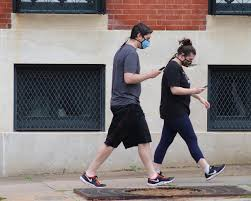mask: (126, 20, 154, 52), (173, 35, 199, 68)
